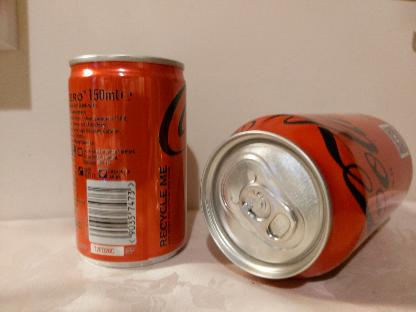Can: (200, 114, 414, 280), (66, 53, 188, 264)
